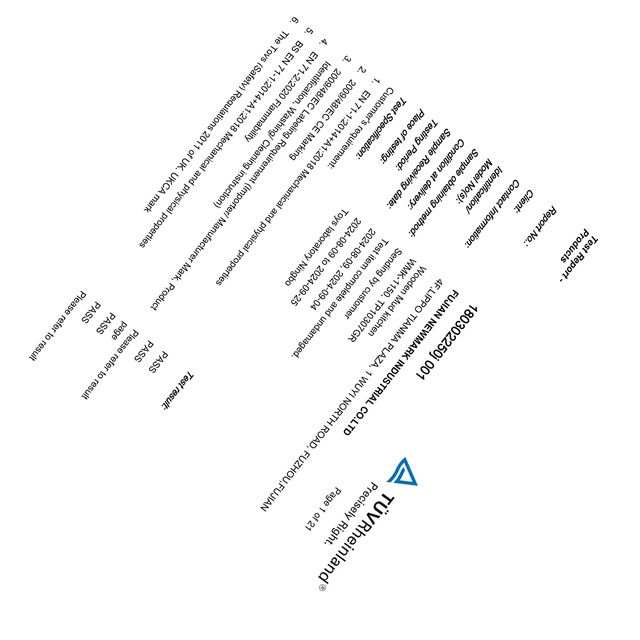tuv_rheinland: (313, 453, 421, 596)
